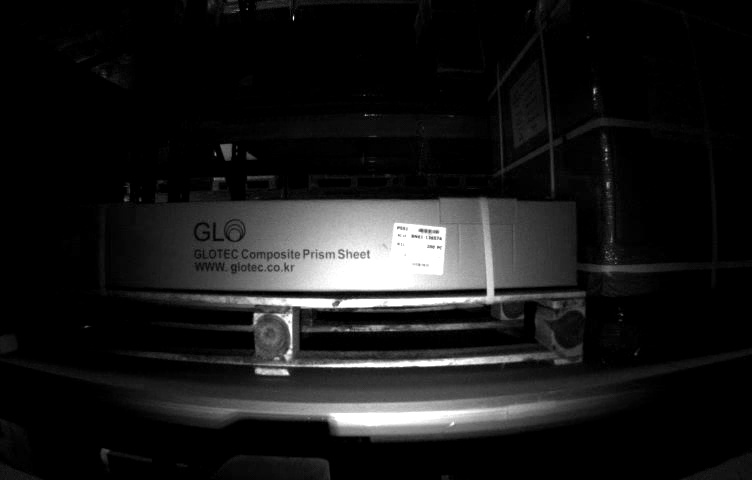True Barcode: (393, 219, 446, 271)
